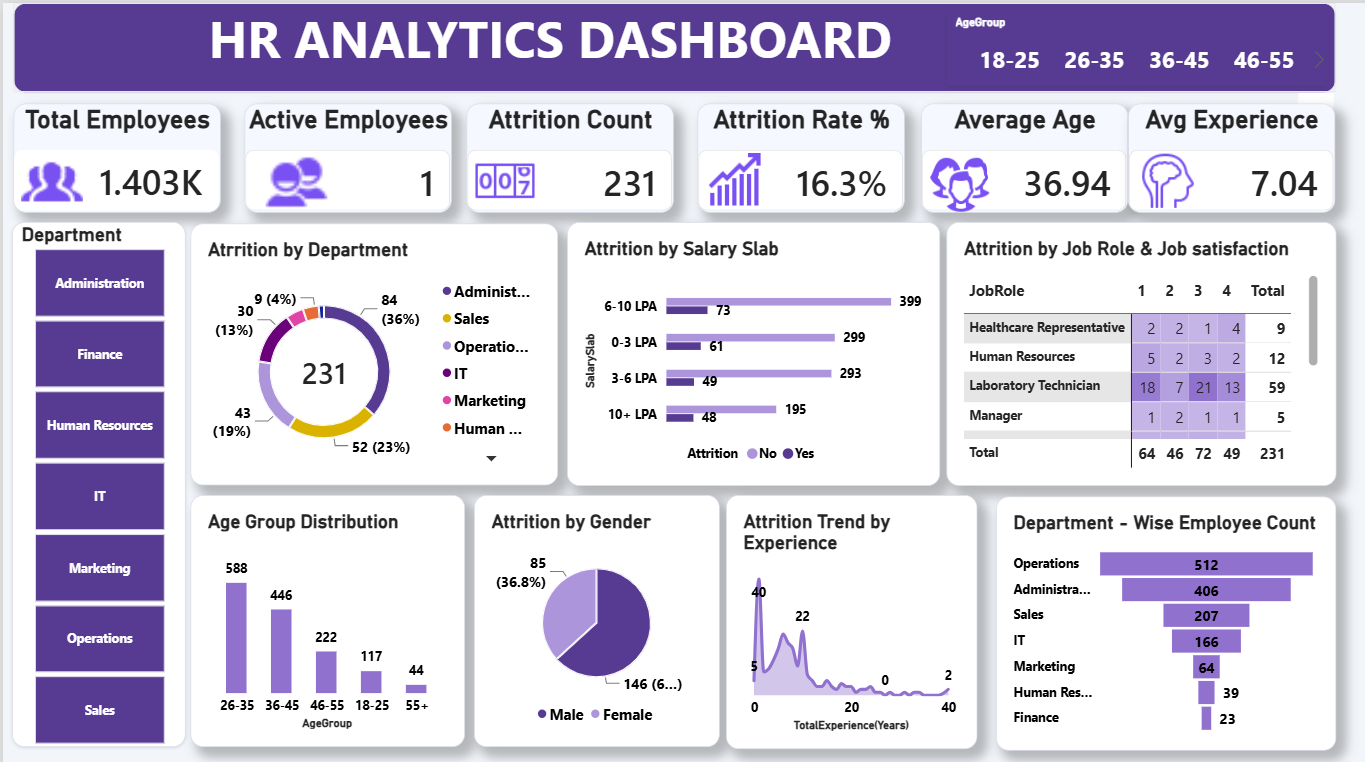

The dashboard page shown, as its layout file describes it:
{"tool":"powerbi","page":{"name":"Page 1","canvas":[1920,1080],"ordinal":0},"visuals":[{"type":"textbox","box":[10,0,1259,85],"z":0},{"type":"cardVisual","title":"Total Employees","fields":{"Data":["Count(HR_Analytics-4.EmpID)"]},"box":[10,95,197,104],"z":1000},{"type":"cardVisual","title":"Active Employees","fields":{"Data":["Count(HR_Analytics-4.EmployeeCount)"]},"box":[230,96,197,104],"z":2000},{"type":"cardVisual","title":"Attrition Count","fields":{"Data":["Sum(HR_Analytics-4.AtrritionCount)"]},"box":[442,96,197,104],"z":3000},{"type":"cardVisual","title":"Attrition Rate %","fields":{"Data":["HR_Analytics-4.Attrition Rate %"]},"box":[662,96,197,104],"z":4000},{"type":"cardVisual","title":"Average Age","fields":{"Data":["Avg(HR_Analytics-4.Age)"]},"box":[874,96,197,104],"z":5000},{"type":"cardVisual","title":"Avg Experience","fields":{"Data":["Avg(HR_Analytics-4.YearsatCompany)"]},"box":[1072,96,197,104],"z":6000},{"type":"image","box":[10,140,73.3,58.3],"z":7000},{"type":"image","box":[1072.5,140,73.3,58.3],"z":8000},{"type":"image","box":[243.3,140,73.3,58.3],"z":9000},{"type":"image","box":[662.5,142.5,66.7,50],"z":10000},{"type":"image","box":[875,142.5,73.3,58.3],"z":11000},{"type":"image","box":[441.7,140,73.3,58.3],"z":12000},{"type":"donutChart","title":"Atrrition by Department","fields":{"Category":["HR_Analytics-4.Department"],"Y":["Sum(HR_Analytics-4.AtrritionCount)"]},"box":[179,210,350,249],"z":13000},{"type":"clusteredBarChart","title":"Attrition by Salary Slab","fields":{"Category":["HR_Analytics-4.SalarySlab"],"Series":["HR_Analytics-4.Attrition"],"Y":["CountNonNull(HR_Analytics-4.EmpID)"]},"box":[537,209,355,251],"z":14000},{"type":"pivotTable","title":"Attrition by Job Role & Job satisfaction","fields":{"Columns":["HR_Analytics-4.JobSatisfaction"],"Rows":["HR_Analytics-4.JobRole"],"Values":["Sum(HR_Analytics-4.AtrritionCount)"]},"box":[898,209,371,251],"z":15000},{"type":"columnChart","title":"Age Group Distribution","fields":{"Category":["HR_Analytics-4.AgeGroup"],"Y":["Sum(HR_Analytics-4.EmployeeCount)"]},"box":[179,469,261,240],"z":16000},{"type":"pieChart","title":"Attrition by Gender","fields":{"Category":["HR_Analytics-4.Gender"],"Y":["Sum(HR_Analytics-4.AtrritionCount)"]},"box":[448,469,234,240],"z":17000},{"type":"areaChart","title":"Attrition Trend by Experience","fields":{"Category":["HR_Analytics-4.TotalExperience(Years)"],"Y2":["Sum(HR_Analytics-4.AtrritionCount)"]},"box":[689,469,239,242],"z":18000},{"type":"funnel","title":"Department - Wise Employee Count","fields":{"Category":["HR_Analytics-4.Department"],"Y":["CountNonNull(HR_Analytics-4.EmpID)"]},"box":[946,470,324,242],"z":19000},{"type":"slicer","fields":{"Values":["HR_Analytics-4.Department"]},"box":[9,209,165,500],"z":20000},{"type":"slicer","fields":{"Values":["HR_Analytics-4.AgeGroup"]},"box":[898,12,361,68],"z":21000}]}

Visuals, with their boxes in screenshot pixels (x1, y1, x2, y2), scaled from the page's 1920x1080 canvas onto the 1365x762 screenshot:
textbox: crop(7, 0, 902, 60)
"Total Employees" cardVisual: crop(7, 67, 147, 140)
"Active Employees" cardVisual: crop(164, 68, 304, 141)
"Attrition Count" cardVisual: crop(314, 68, 454, 141)
"Attrition Rate %" cardVisual: crop(471, 68, 611, 141)
"Average Age" cardVisual: crop(621, 68, 761, 141)
"Avg Experience" cardVisual: crop(762, 68, 902, 141)
image: crop(7, 99, 59, 140)
image: crop(762, 99, 815, 140)
image: crop(173, 99, 225, 140)
image: crop(471, 101, 518, 136)
image: crop(622, 101, 674, 142)
image: crop(314, 99, 366, 140)
"Atrrition by Department" donutChart: crop(127, 148, 376, 324)
"Attrition by Salary Slab" clusteredBarChart: crop(382, 147, 634, 325)
"Attrition by Job Role & Job satisfaction" pivotTable: crop(638, 147, 902, 325)
"Age Group Distribution" columnChart: crop(127, 331, 313, 500)
"Attrition by Gender" pieChart: crop(318, 331, 485, 500)
"Attrition Trend by Experience" areaChart: crop(490, 331, 660, 502)
"Department - Wise Employee Count" funnel: crop(673, 332, 903, 502)
slicer - HR_Analytics-4.Department: crop(6, 147, 124, 500)
slicer - HR_Analytics-4.AgeGroup: crop(638, 8, 895, 56)
